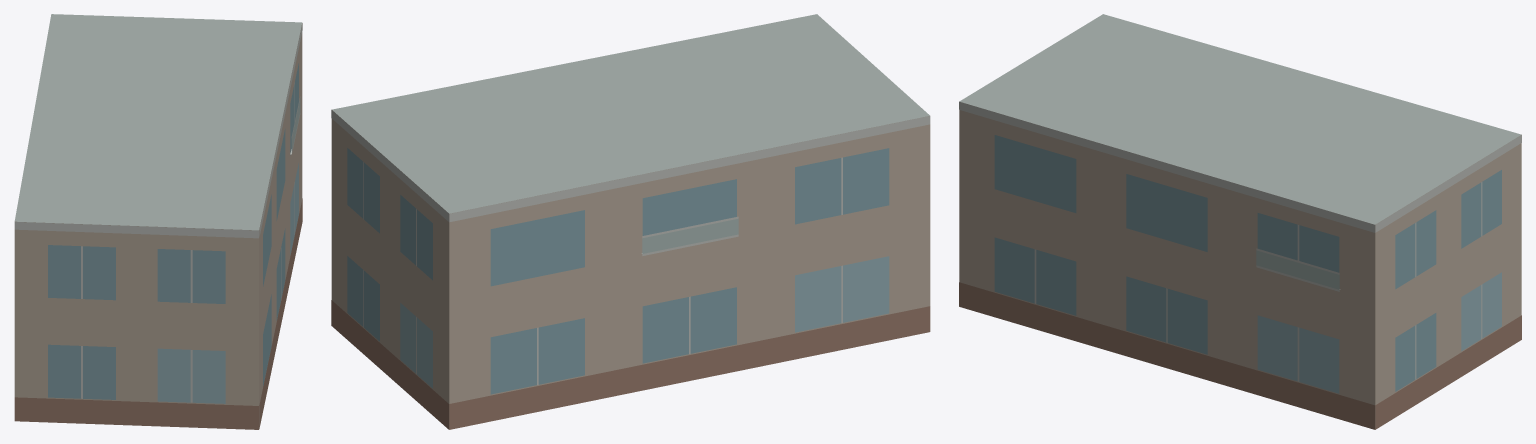
Rendered from survey-upis-32988709.glb.
3 views of the same model, side by side, from view 1: azimuth 30°, elevation 25°; view 2: azimuth 150°, elevation 25°; view 3: azimuth 270°, elevation 25° (orthographic). The views are drawn at different scales.
Visible parts, largest first — view 1: survey-upis-32988709.tmp; view 2: survey-upis-32988709.tmp; view 3: survey-upis-32988709.tmp.
Boxes of the visible parts, left/top/right/bottom form: survey-upis-32988709.tmp: left=14, top=14, right=302, bottom=429; survey-upis-32988709.tmp: left=331, top=14, right=930, bottom=429; survey-upis-32988709.tmp: left=959, top=14, right=1521, bottom=429.
Size of the model in its own units: 13.45 by 6.1 by 15.18.
